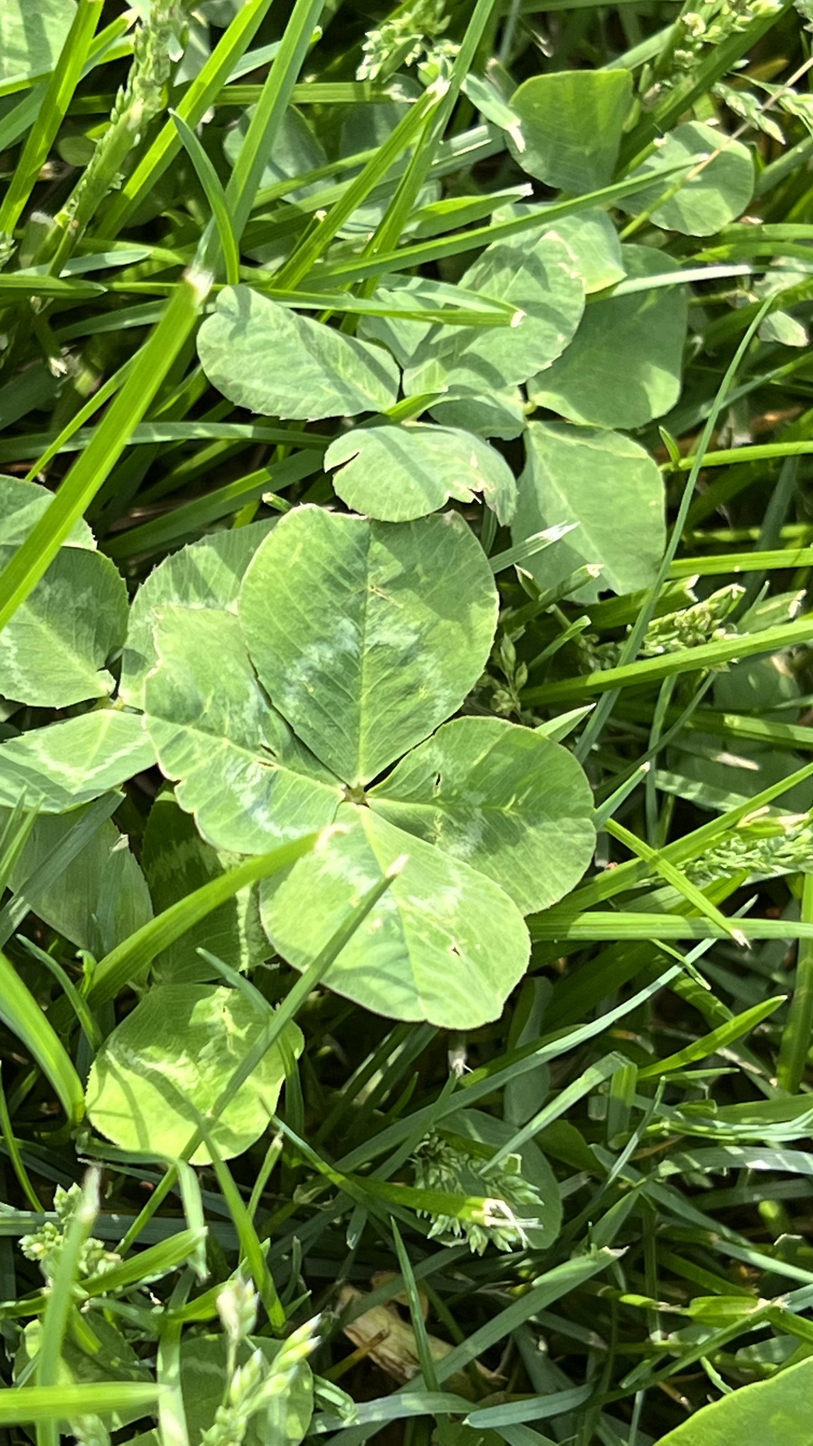4-Leaf-Clovers: (283, 380, 579, 1190)
